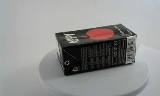appy: (50, 23, 128, 76)
